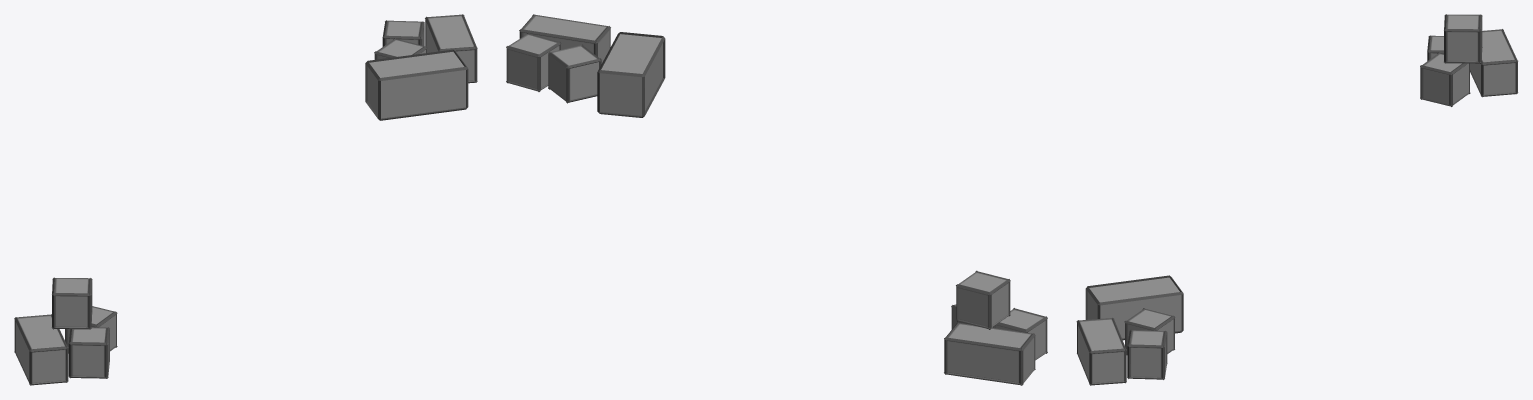
Rendered from Storage_Crates_10.fbx.
3 renders of one model, left to right at view 1: azimuth 90°, elevation 25°; view 2: azimuth 150°, elevation 25°; view 3: azimuth 270°, elevation 25°, orthographic. The views are drawn at different scales.
Visible parts, largest first — view 1: Storage_Crates_10; view 2: Storage_Crates_10; view 3: Storage_Crates_10.
Boxes of the visible parts, x1,y1,x2,y2 form: Storage_Crates_10: (14,14,477,385); Storage_Crates_10: (506,14,1047,385); Storage_Crates_10: (1076,14,1518,385).
Bounding box in the file's own units: 5285 × 539 × 3062.
